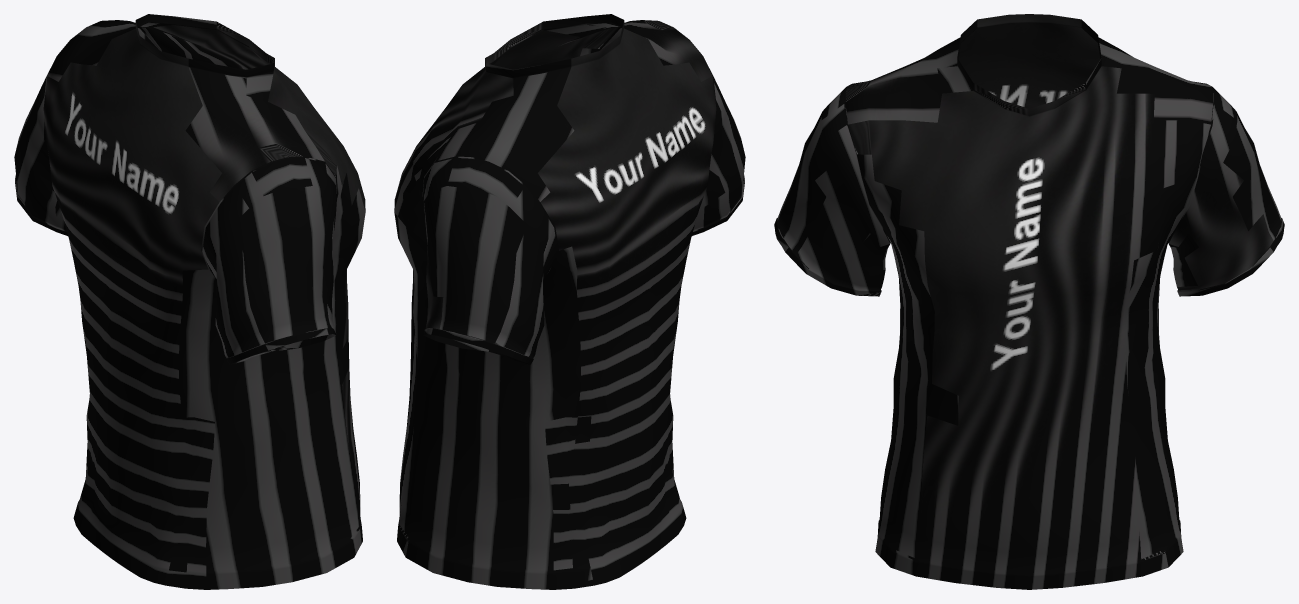
The model's file is dartshirt.gltf.
The picture shows the model from 3 angles, left to right: view 1: azimuth 30°, elevation 25°; view 2: azimuth 150°, elevation 25°; view 3: azimuth 270°, elevation 25°; orthographic projection.
Parts seen in each view (by area): view 1: Plane; view 2: Plane; view 3: Plane.
Part boxes in pixels (x1,y1,x2,y2): Plane: [14, 14, 365, 589]; Plane: [394, 14, 745, 589]; Plane: [774, 14, 1284, 589].
Size of the model in its own units: 0.5337 by 1.1 by 1.02.
1 material, 1 textured.
